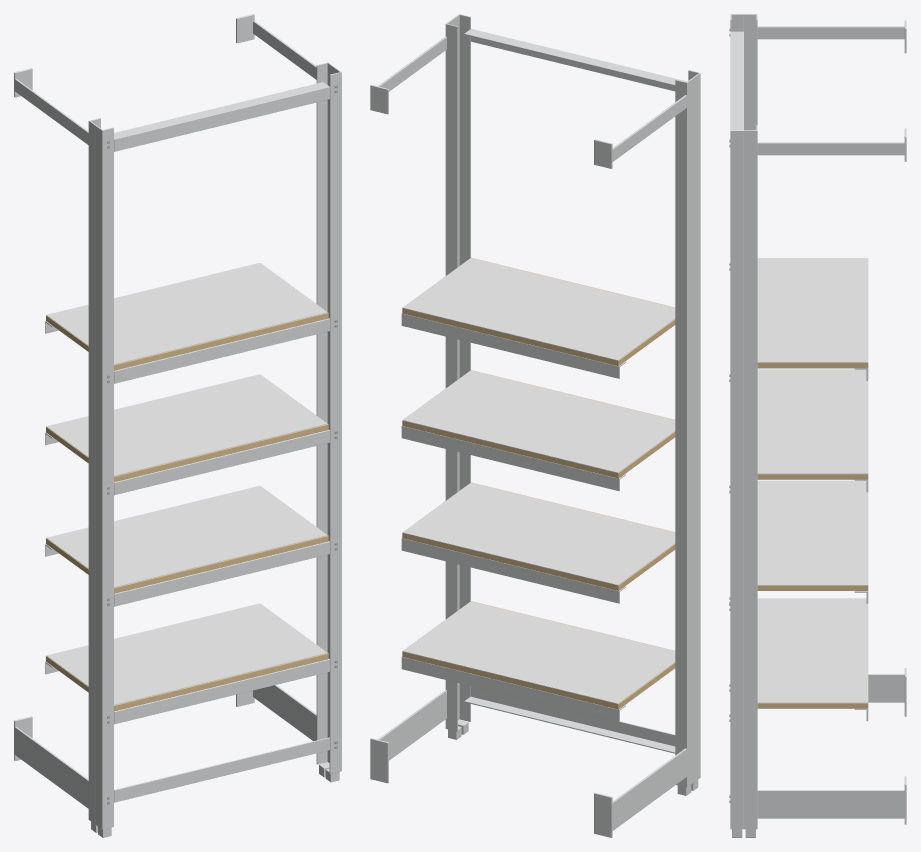
3 views of the same model, side by side, from view 1: azimuth 30°, elevation 25°; view 2: azimuth 150°, elevation 25°; view 3: azimuth 270°, elevation 25° (orthographic).
Parts seen in each view (by area): view 1: shelf1.top, shelf3.top, shelf2.top, shelf0.top, col1.front.x, col-1.front.x, col1.back.x, col-1.front.y, col-1.back.y, shelf1.front.z, shelf3.front.z, rail.bottom.z (+15 smaller); view 2: shelf3.top, shelf0.top, shelf1.top, shelf2.top, col-1.back.x, col1.back.x, col-1.back.y, col-1.front.y, col1.front.x, shelf2.back.z, shelf3.back.z, shelf0.back.z (+17 smaller); view 3: shelf1.top, shelf3.top, shelf0.top, shelf2.top, col1.front.y, col1.back.y, bracket.bottom1, bracket.top1, bracket.top-1, col-1.back.y, rail.top.y, col1.back.x (+6 smaller).
Boxes of the visible parts, box(x1,y1,x2,y2) form: shelf1.top: box(46, 485, 327, 587); shelf3.top: box(46, 262, 327, 364); shelf2.top: box(46, 374, 327, 475); shelf0.top: box(46, 603, 327, 704); col1.front.x: box(329, 72, 341, 773); col-1.front.x: box(101, 127, 113, 829); col1.back.x: box(316, 62, 328, 764); col-1.front.y: box(95, 125, 103, 829); col-1.back.y: box(88, 121, 96, 824); shelf1.front.z: box(114, 541, 329, 606); shelf3.front.z: box(114, 318, 329, 383); rail.bottom.z: box(114, 737, 329, 802); shelf3.top: box(403, 258, 675, 360); shelf0.top: box(403, 601, 675, 703); shelf1.top: box(402, 482, 675, 585); shelf2.top: box(403, 370, 675, 472); col-1.back.x: box(675, 79, 687, 787); col1.back.x: box(445, 24, 457, 731); col-1.back.y: box(686, 78, 693, 787); col-1.front.y: box(693, 73, 700, 782); col1.front.x: box(459, 14, 470, 721); shelf2.back.z: box(401, 426, 619, 490); shelf3.back.z: box(401, 314, 619, 378); shelf0.back.z: box(401, 657, 619, 721); shelf1.top: box(757, 480, 868, 585); shelf3.top: box(757, 258, 868, 362); shelf0.top: box(757, 598, 868, 702); shelf2.top: box(757, 369, 868, 473); col1.front.y: box(730, 130, 743, 829); col1.back.y: box(744, 130, 757, 829); bracket.bottom1: box(757, 790, 906, 818); bracket.top1: box(757, 142, 906, 155); bracket.top-1: box(757, 26, 904, 39); col-1.back.y: box(744, 14, 756, 130); rail.top.y: box(730, 31, 743, 130); col1.back.x: box(756, 125, 757, 829).
Size of the model in its own units: 0.81 by 2.29 by 0.52.
